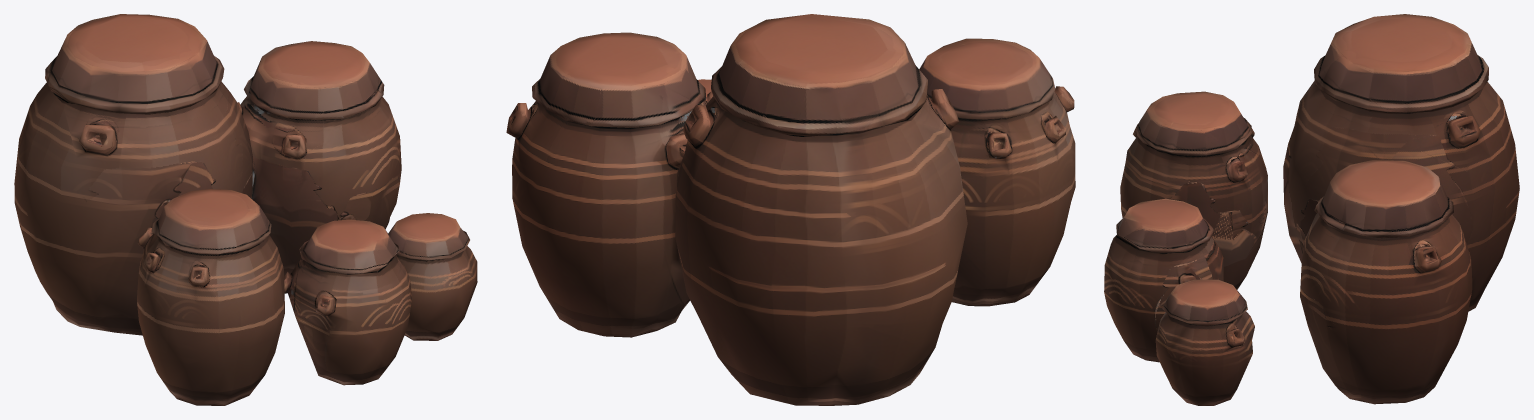
Rendered from jars.glb.
The picture shows the model from 3 angles, left to right: view 1: azimuth 30°, elevation 25°; view 2: azimuth 150°, elevation 25°; view 3: azimuth 270°, elevation 25°; orthographic projection. The views are drawn at different scales.
Parts seen in each view (by area): view 1: texture_mapping; view 2: texture_mapping; view 3: texture_mapping.
Boxes of the visible parts, left/top/right/bottom form: texture_mapping: left=14, top=14, right=477, bottom=405; texture_mapping: left=506, top=14, right=1075, bottom=405; texture_mapping: left=1104, top=14, right=1519, bottom=405.
Bounding box in the file's own units: 0.9693 × 0.7102 × 1.
Materials: 1 (1 with a texture image).
